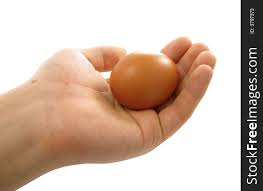egg: (109, 52, 183, 108)
